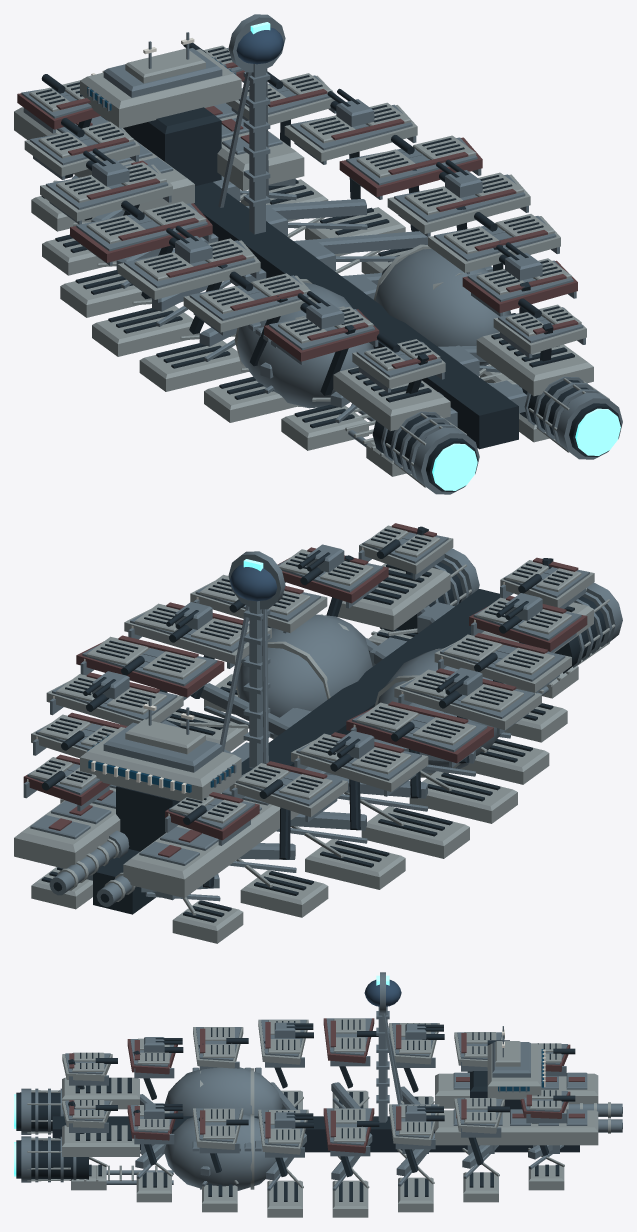
Rendered from munificent.glb.
3 renders of one model, top to bottom at view 1: azimuth 30°, elevation 25°; view 2: azimuth 150°, elevation 25°; view 3: azimuth 270°, elevation 25°, orthographic. The views are drawn at different scales.
Parts seen in each view (by area): view 1: munificent-material-3, munificent-material-1, munificent-material-0, munificent-material-2, munificent-material-4, munificent-material-7; view 2: munificent-material-3, munificent-material-1, munificent-material-0, munificent-material-2, munificent-material-7, munificent-material-5, munificent-material-6; view 3: munificent-material-3, munificent-material-1, munificent-material-0, munificent-material-2, munificent-material-7.
Part boxes in pixels (box(x1,y1,x2,y2)): munificent-material-3: box(14, 45, 609, 487); munificent-material-1: box(21, 14, 622, 494); munificent-material-0: box(36, 42, 621, 491); munificent-material-2: box(17, 62, 578, 368); munificent-material-4: box(250, 22, 620, 490); munificent-material-7: box(236, 27, 283, 64); munificent-material-3: box(14, 525, 615, 943); munificent-material-1: box(23, 532, 622, 906); munificent-material-0: box(36, 526, 617, 922); munificent-material-2: box(23, 523, 587, 857); munificent-material-7: box(230, 564, 277, 601); munificent-material-5: box(87, 735, 233, 792); munificent-material-6: box(27, 547, 504, 816); munificent-material-3: box(27, 1018, 610, 1217); munificent-material-1: box(21, 972, 622, 1190); munificent-material-0: box(16, 1019, 622, 1201); munificent-material-2: box(69, 1018, 584, 1153); munificent-material-7: box(364, 980, 401, 1006).
Bounding box in the file's own units: 414 × 287 × 825.
